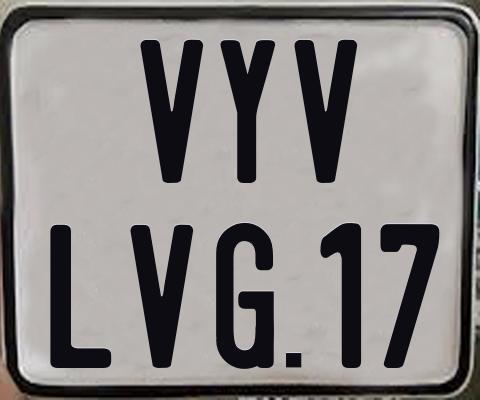1: (317, 223, 361, 369)
7: (378, 222, 441, 371)
G: (213, 221, 271, 367)
L: (49, 223, 111, 369)
V: (128, 225, 195, 369), (293, 38, 358, 186), (139, 40, 206, 183)
Y: (217, 37, 273, 183)
